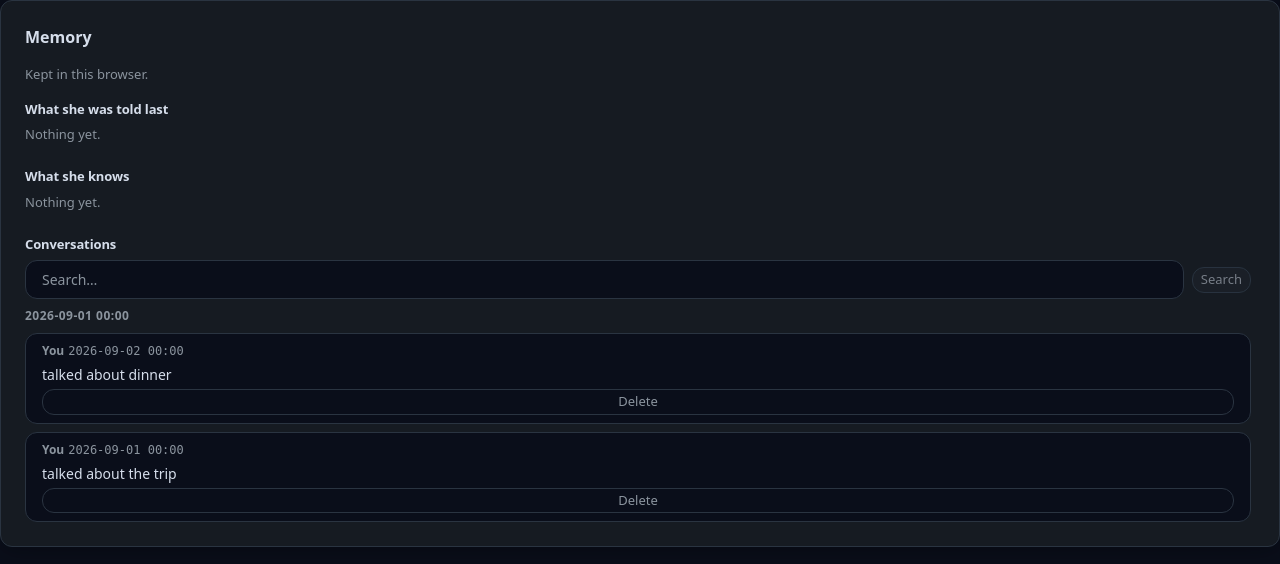
MemoryPanel (P4-T05) › search shows searchEpisodes results, with a way back to the full list
Expected: the text "talked about the trip" is shown, [42,464,177,483]
In the field named "Search conversations": {"x": 604, "y": 280} [25,260,1184,299], type "trip"
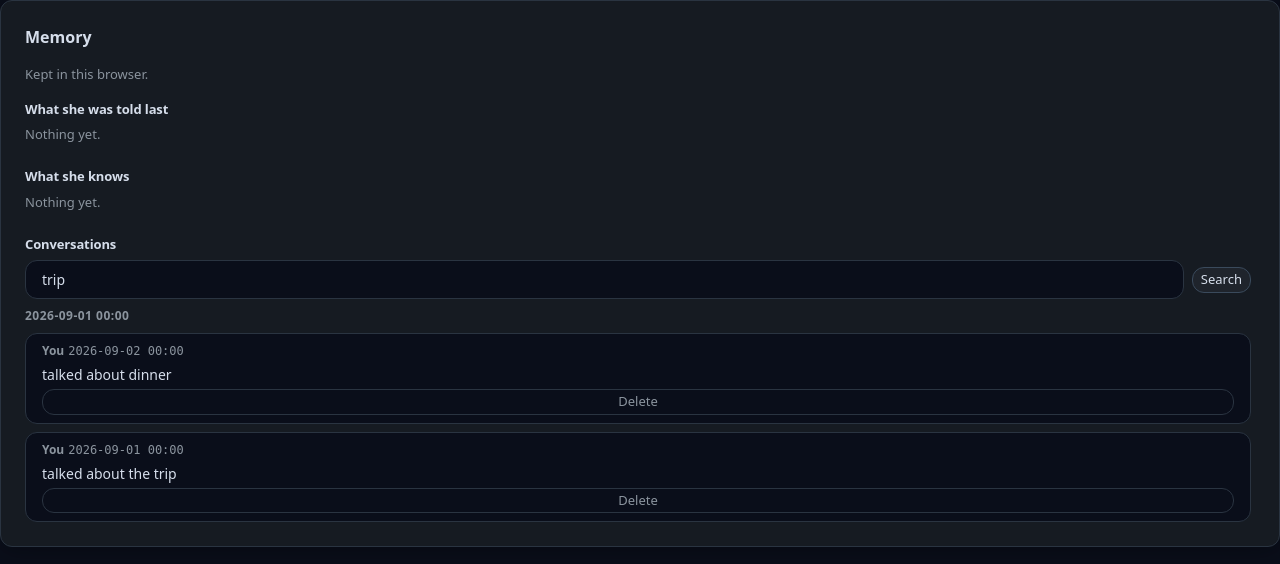
Click the button "Search": {"x": 1221, "y": 280} [1192,267,1251,293]
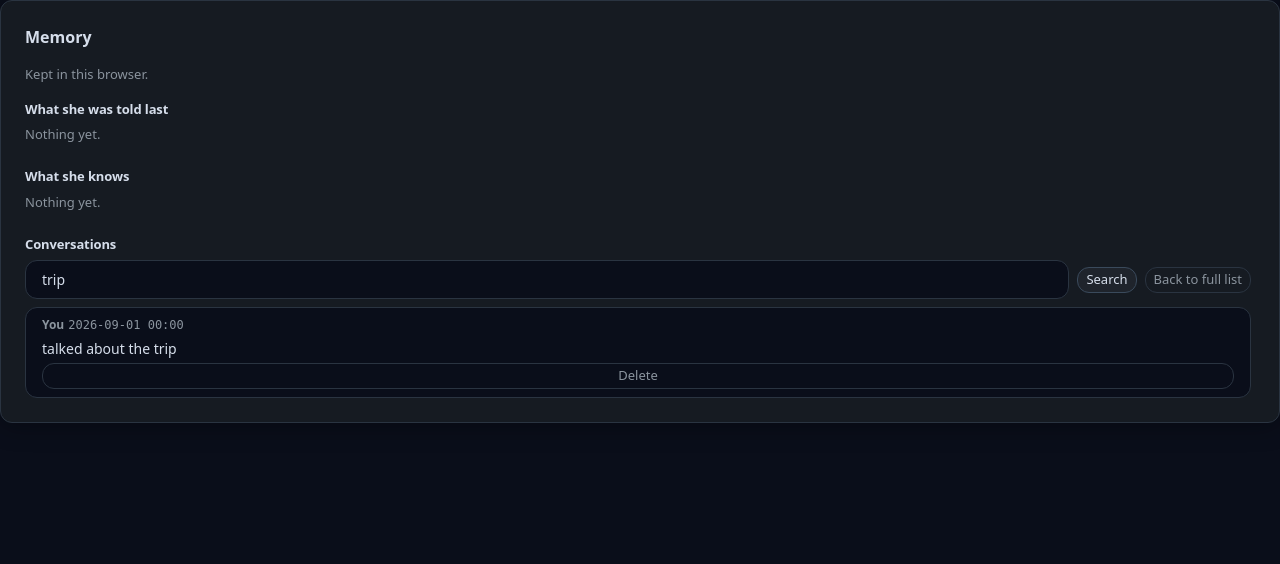
Expected: the text "talked about the trip" is shown, [42,339,177,358]
Expected: the text "talked about dinner" is gone
Click the button "Back to full list": {"x": 1198, "y": 280} [1144,267,1251,293]
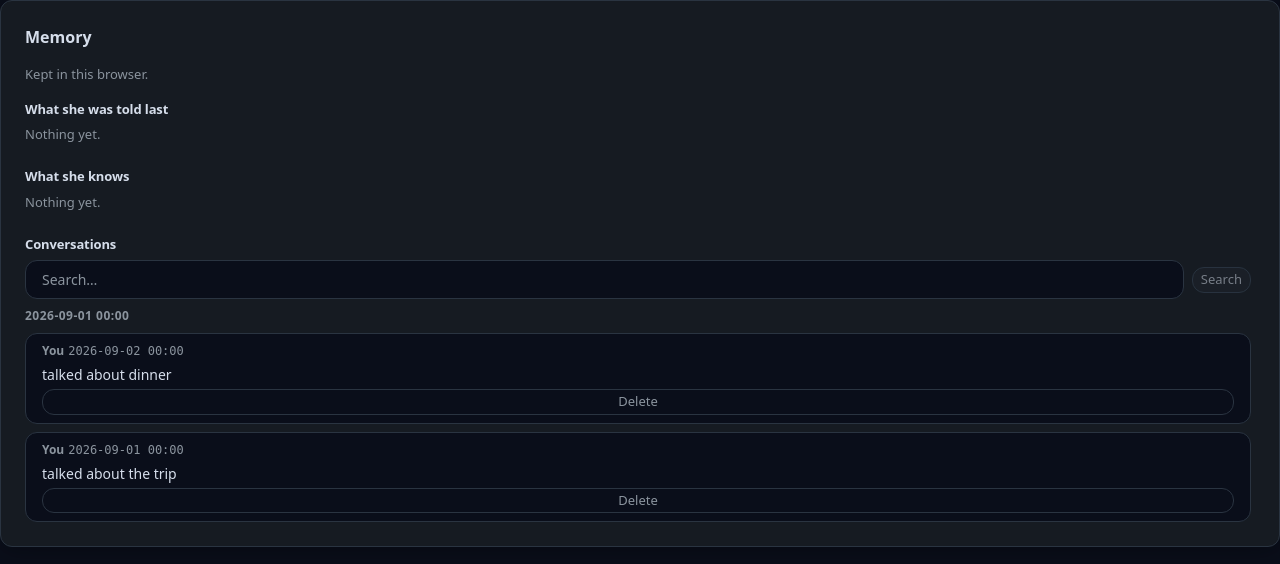
Expected: the text "talked about dinner" is shown, [42,365,172,384]
